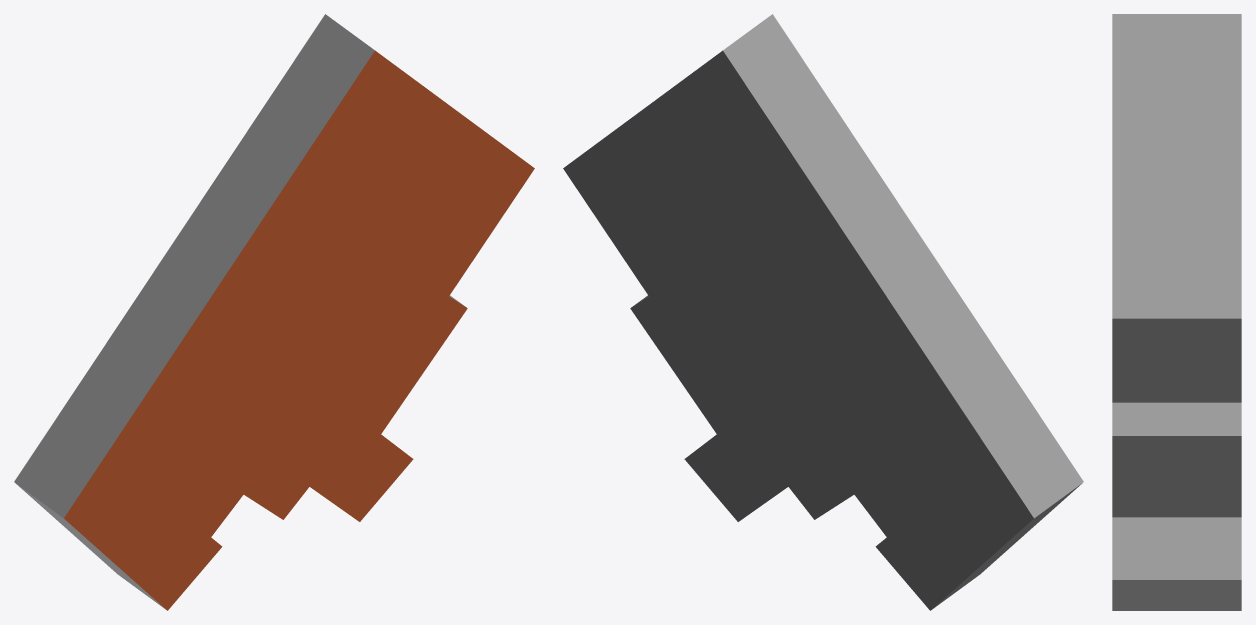
The model's file is construction_5719_assumed_A_Casa_h6m.obj.
3 renders of one model, left to right at view 1: azimuth 30°, elevation 25°; view 2: azimuth 150°, elevation 25°; view 3: azimuth 270°, elevation 25°, orthographic. The views are drawn at different scales.
Parts seen in each view (by area): view 1: construction_5719_assumed_A_Casa; view 2: construction_5719_assumed_A_Casa; view 3: construction_5719_assumed_A_Casa.
Boxes of the visible parts, x1,y1,x2,y2 form: construction_5719_assumed_A_Casa: (14, 14, 534, 610); construction_5719_assumed_A_Casa: (563, 14, 1083, 610); construction_5719_assumed_A_Casa: (1112, 14, 1241, 610).
Size of the model in its own units: 32.76 by 33.88 by 6.
